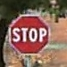stop: (7, 11, 50, 56)
